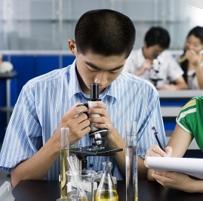person: (3, 10, 168, 191)
